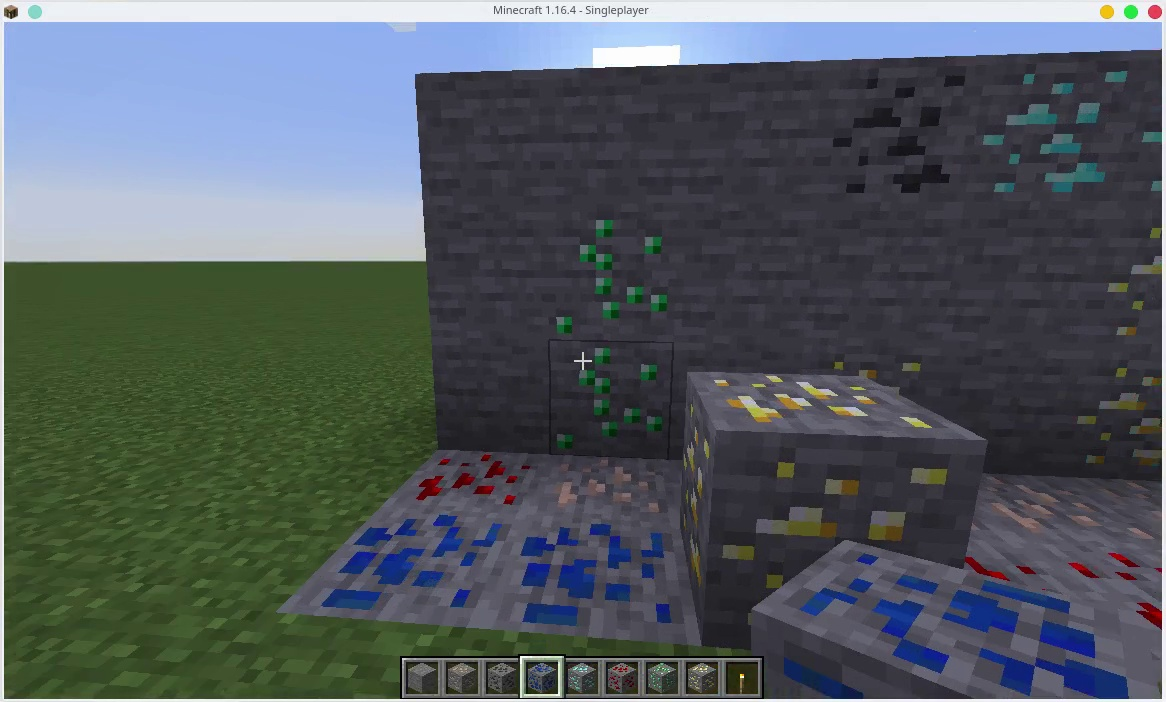gold: (684, 370, 976, 552), (1071, 355, 1166, 468), (1090, 220, 1166, 343), (842, 343, 939, 382), (685, 661, 718, 698)
